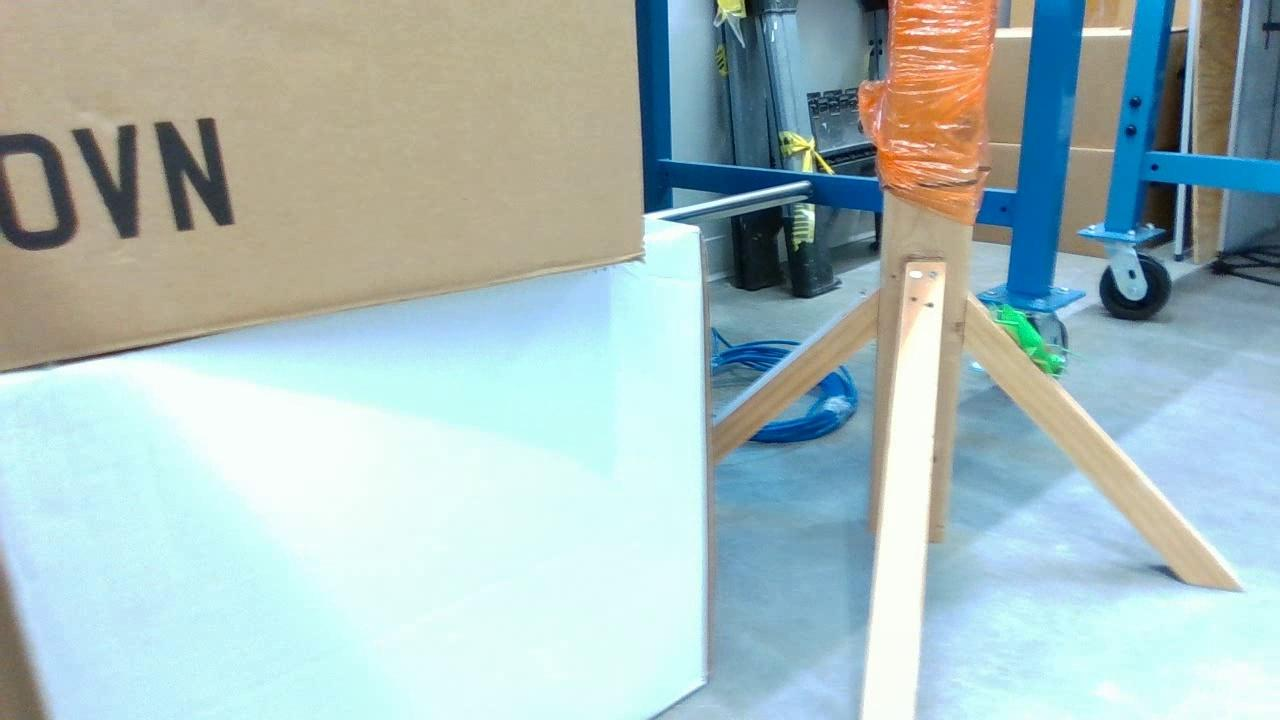grasshopper: (997, 295, 1074, 382)
